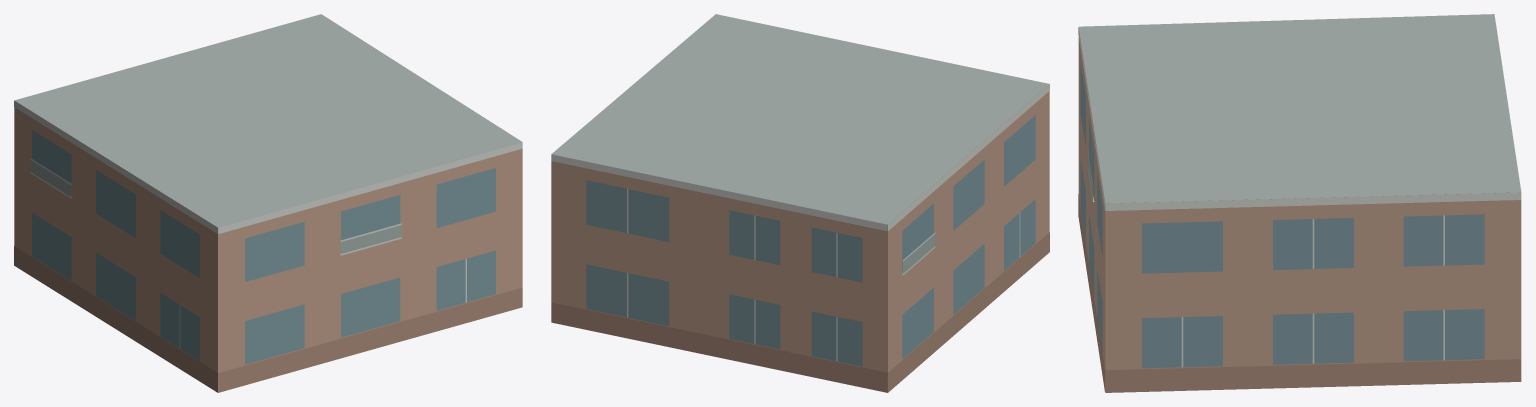
Rendered from survey-upis-32705338.glb.
3 views of the same model, side by side, from view 1: azimuth 30°, elevation 25°; view 2: azimuth 150°, elevation 25°; view 3: azimuth 270°, elevation 25° (orthographic). The views are drawn at different scales.
Visible parts, largest first — view 1: survey-upis-32705338.tmp; view 2: survey-upis-32705338.tmp; view 3: survey-upis-32705338.tmp.
Part boxes in pixels (x1=…): survey-upis-32705338.tmp: x1=14, y1=14, x2=522, y2=392; survey-upis-32705338.tmp: x1=551, y1=14, x2=1049, y2=392; survey-upis-32705338.tmp: x1=1078, y1=14, x2=1521, y2=392.
Size of the model in its own units: 13.1 by 6.1 by 12.94.
